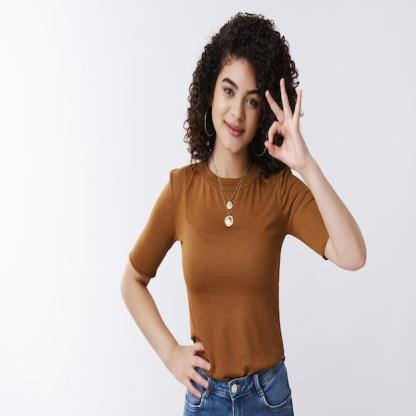ok: (262, 77, 306, 170)
